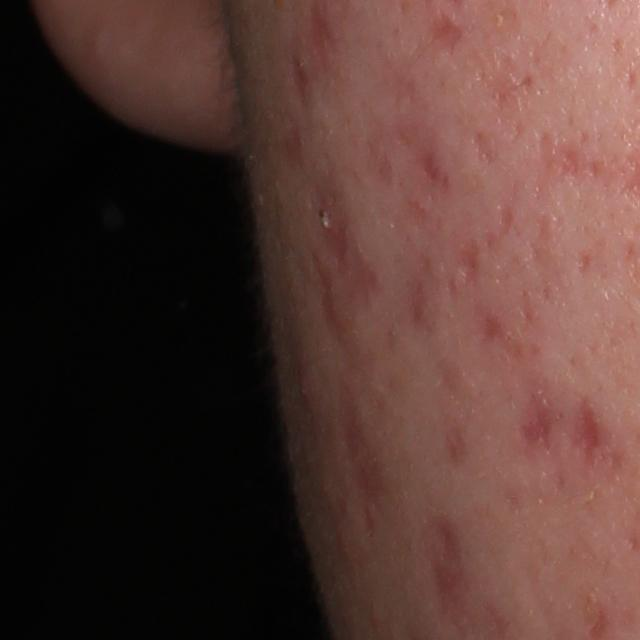atrophic_scar: (342, 400, 385, 534), (430, 510, 475, 621), (324, 217, 376, 312), (529, 131, 597, 202), (565, 397, 601, 471), (429, 10, 465, 58), (519, 406, 554, 450), (470, 126, 501, 170), (455, 242, 481, 286), (421, 147, 441, 187), (498, 200, 515, 237), (576, 247, 595, 276)
